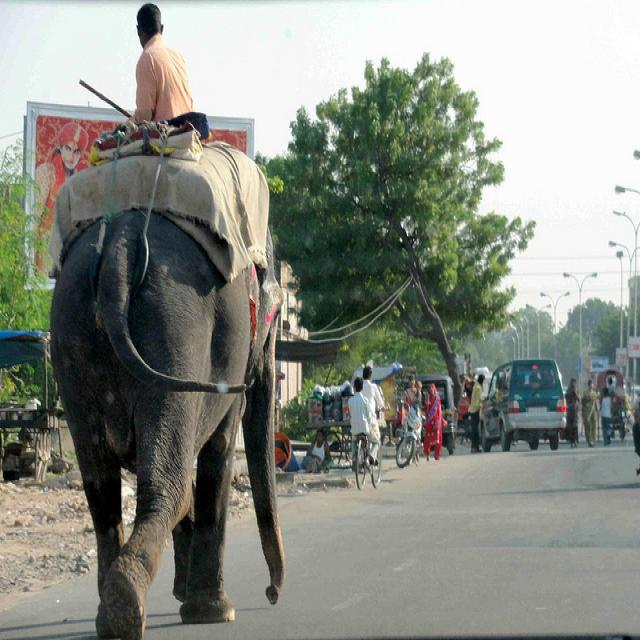motor: (396, 400, 427, 470)
